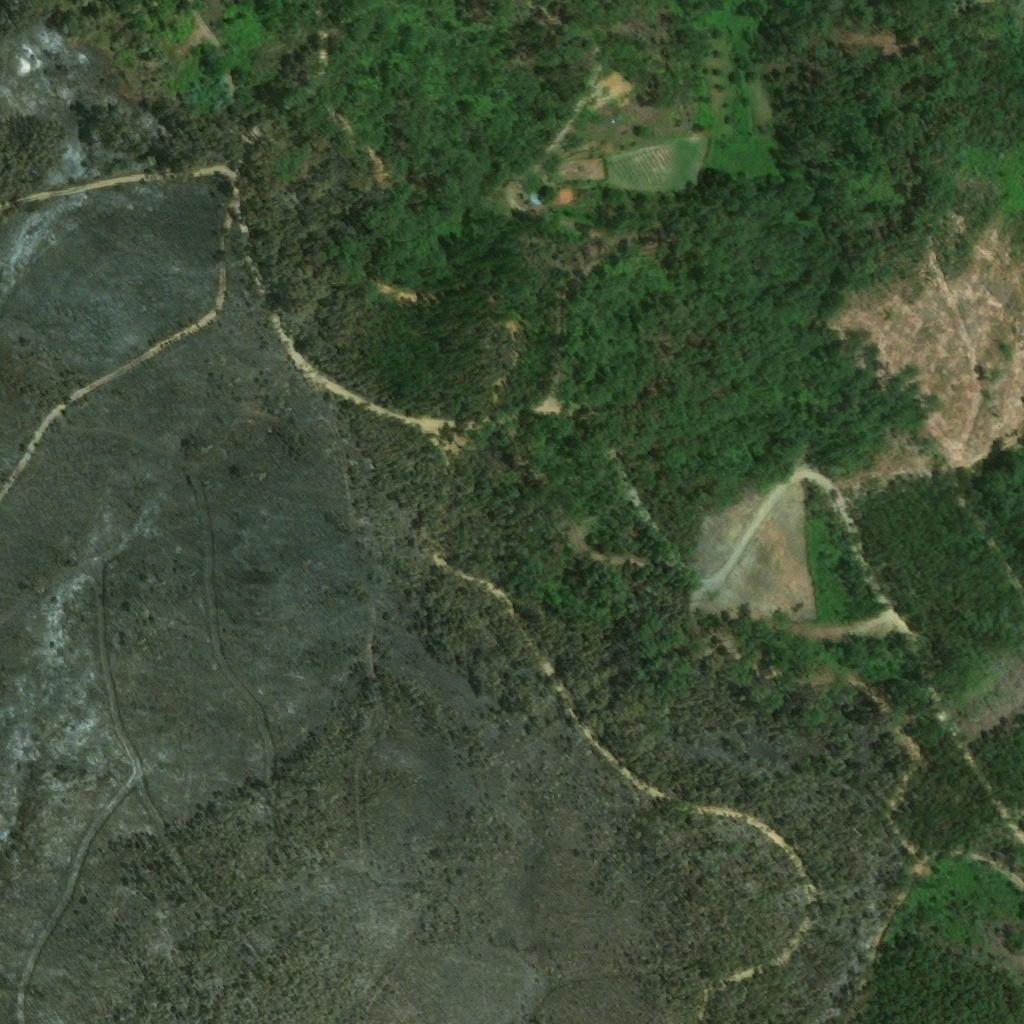0 no-damage: (554, 191, 570, 205), (529, 196, 544, 209)
